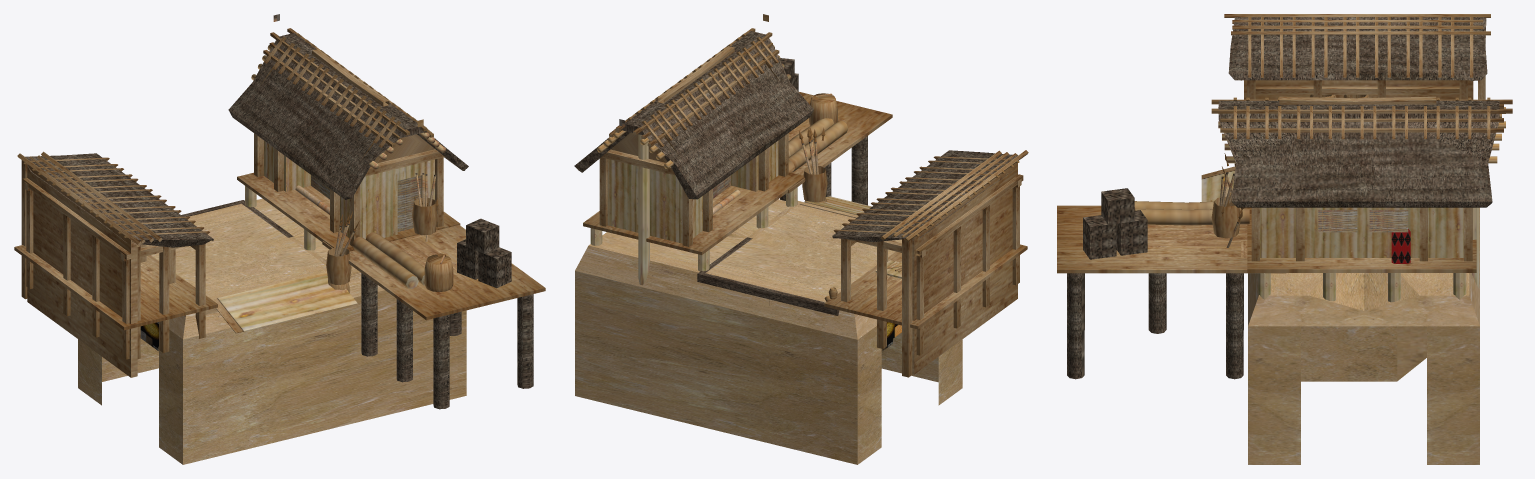
Rendered from yayoi_arsenal.dae.
3 renders of one model, left to right at view 1: azimuth 30°, elevation 25°; view 2: azimuth 150°, elevation 25°; view 3: azimuth 270°, elevation 25°, orthographic. The views are drawn at different scales.
Visible parts, largest first — view 1: siege; view 2: siege; view 3: siege.
Boxes of the visible parts, <box> form: siege: <box>14,14,545,464</box>; siege: <box>574,14,1028,464</box>; siege: <box>1057,14,1512,464</box>.
Size of the model in its own units: 23.97 by 25.24 by 20.32.
Materials: 1 (1 with a texture image).
